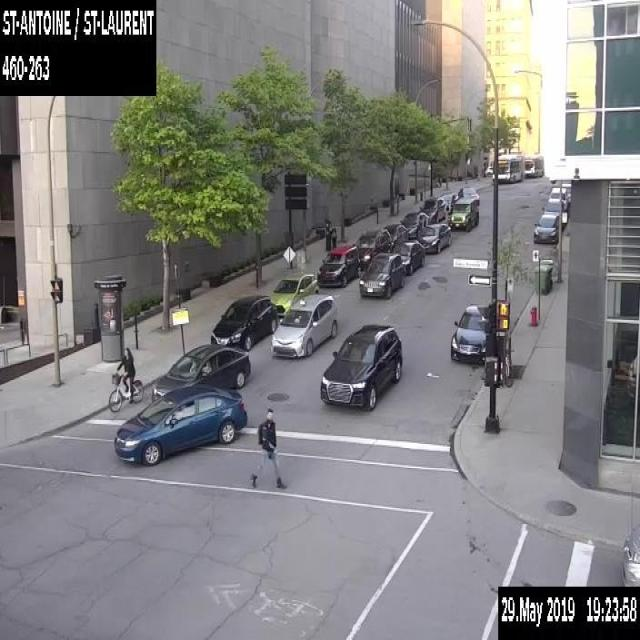bus: (491, 153, 524, 183), (523, 156, 543, 176)
cyclist: (106, 347, 144, 412)
pedestrian: (250, 408, 283, 487), (329, 222, 336, 248)
vehicle: (113, 382, 247, 464), (319, 321, 403, 408), (151, 343, 250, 403), (269, 293, 337, 357), (210, 294, 277, 351), (448, 301, 489, 363), (268, 272, 318, 316), (358, 252, 404, 298), (316, 242, 360, 288), (356, 228, 392, 268), (619, 525, 639, 584), (392, 239, 424, 274), (447, 196, 478, 230), (417, 222, 450, 252), (399, 210, 429, 238), (533, 212, 558, 242), (419, 196, 446, 222), (382, 223, 408, 250), (540, 199, 566, 226), (547, 186, 568, 209), (457, 185, 479, 204), (439, 192, 458, 213), (561, 182, 571, 202)
